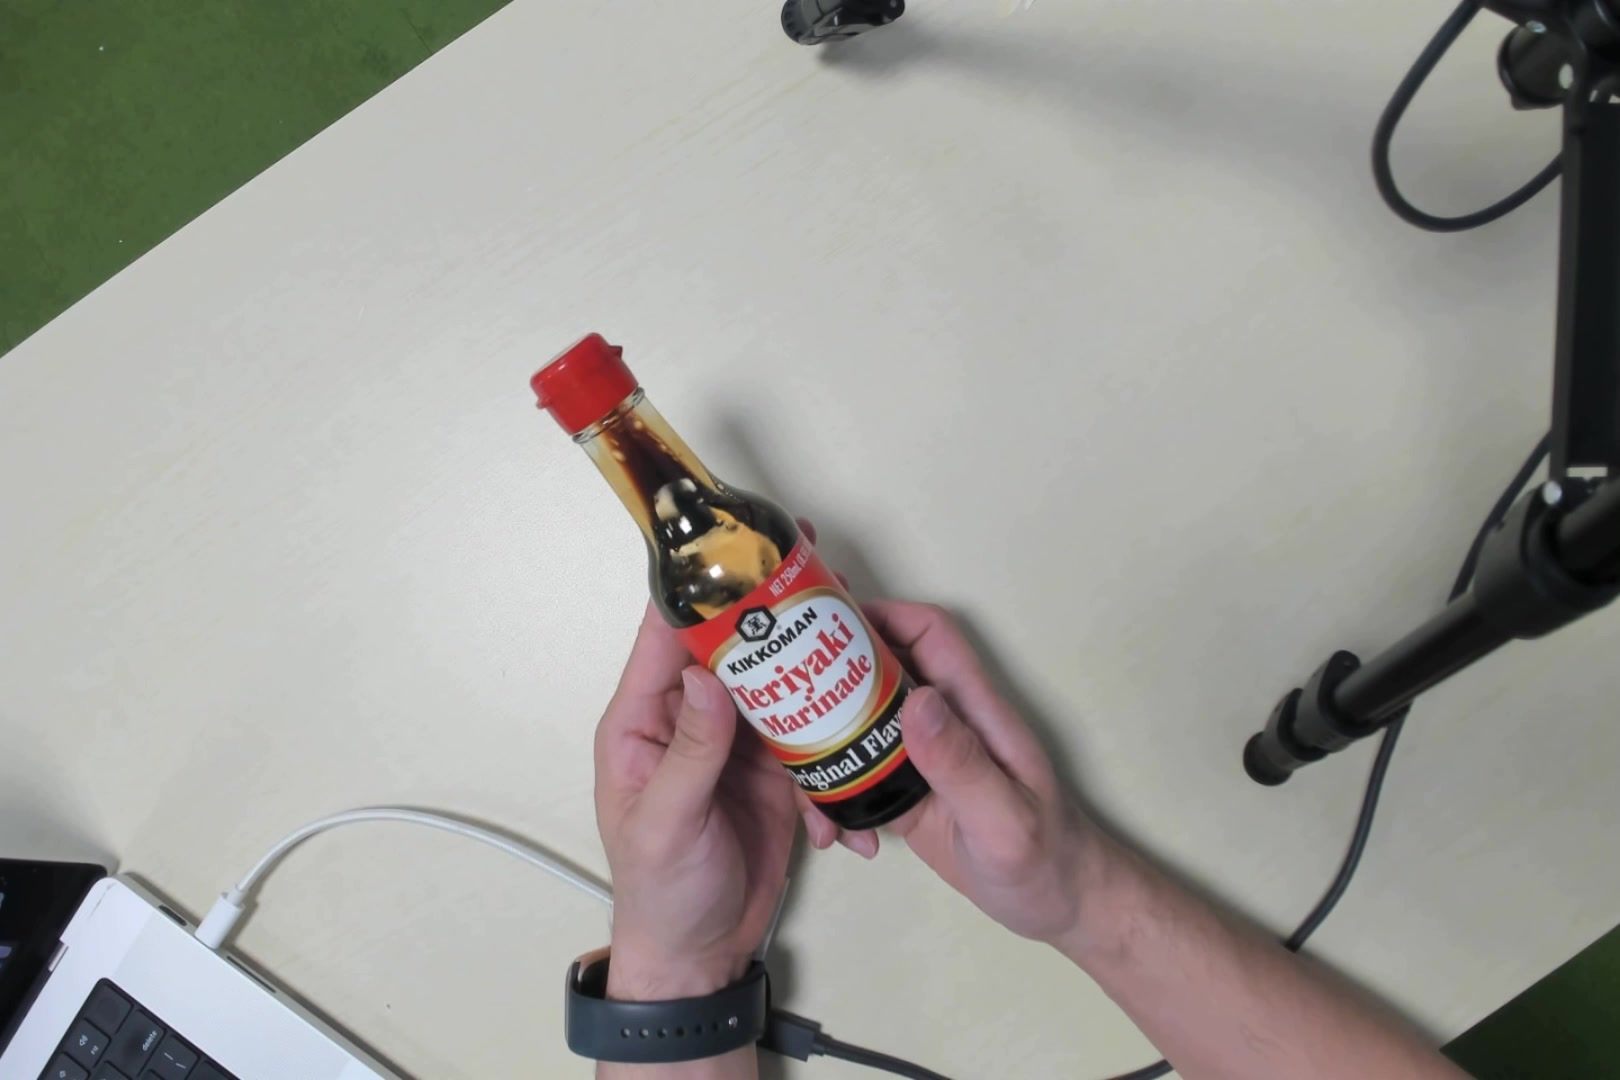OtherSauceDressingSoupbasePaste_200-299g_NonHalal_NonHealthy: (567, 366, 961, 808)
